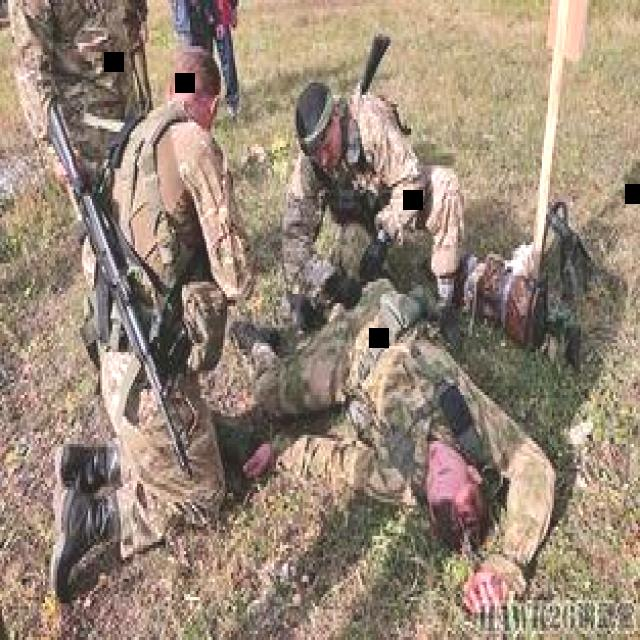Fall-Detected: (217, 215, 562, 612)
